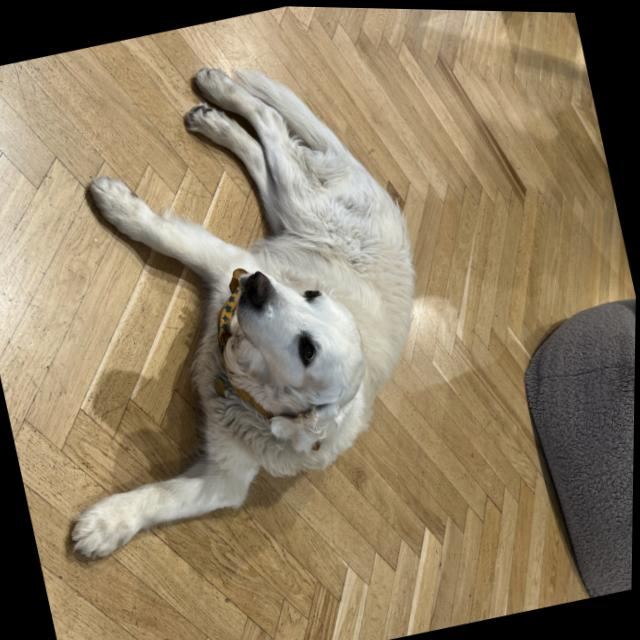dog-retriever: (224, 248, 383, 458)
